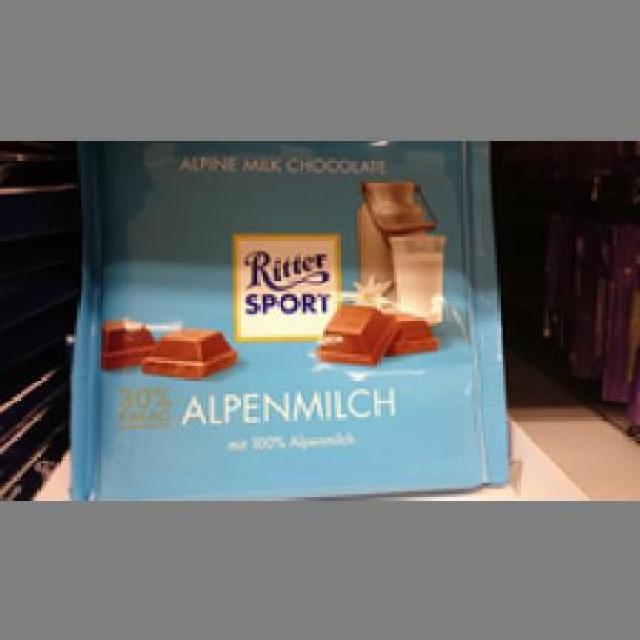Chocolate: (71, 140, 508, 494)
